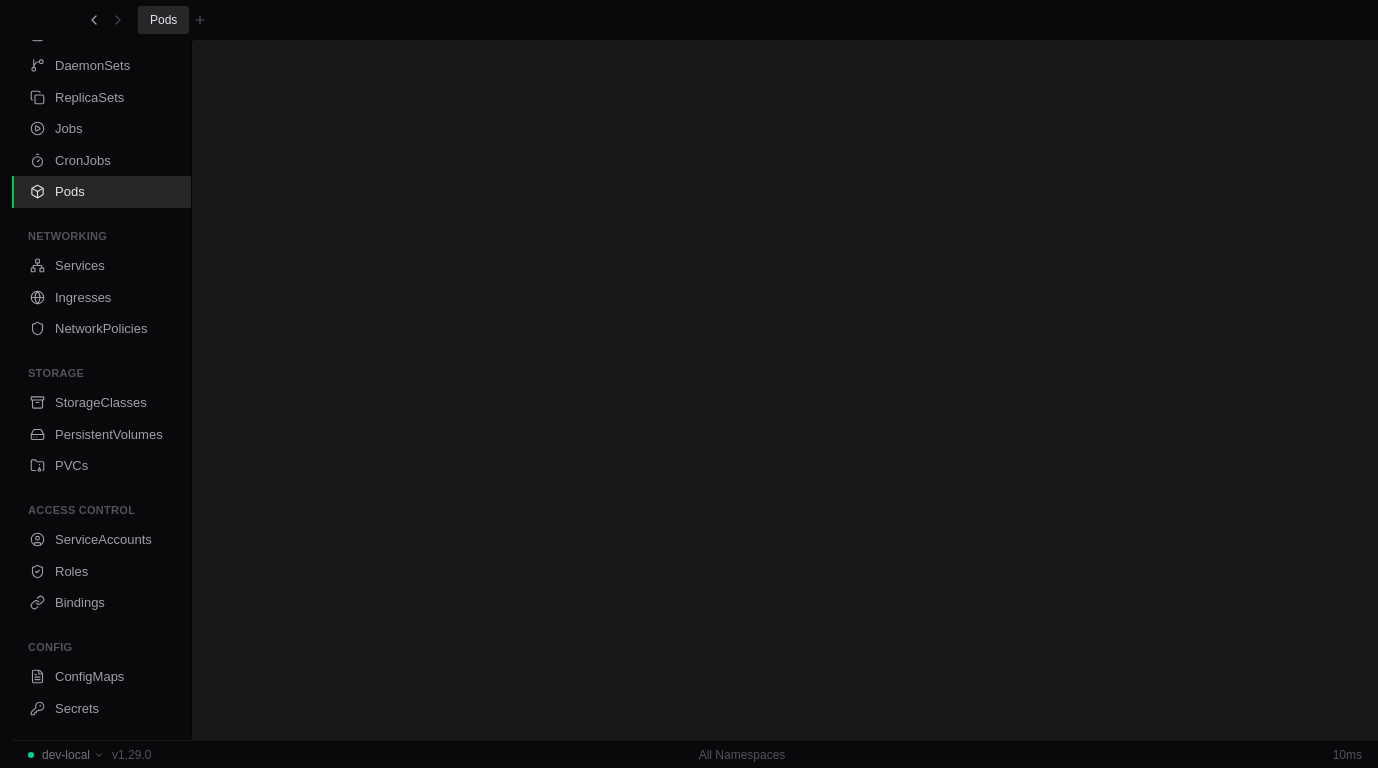
Scenario: RoleBindingDetailView › shows ClusterRoleBinding detail when clicking a cluster role binding
(page scrolled)
Click the button "Bindings".
click(102, 603)  # box left=12, top=587, right=191, bottom=618
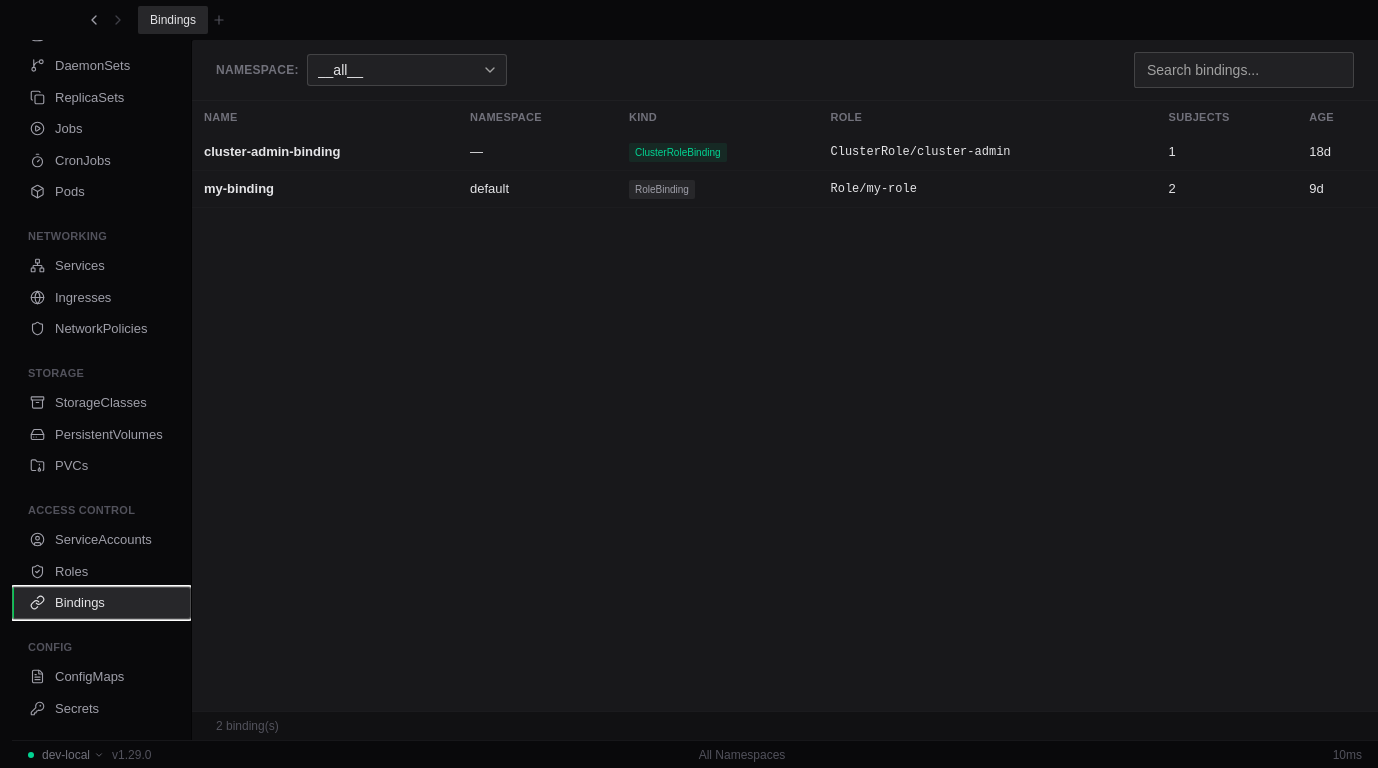
Result: the text "cluster-admin-binding" is shown
Click the text "cluster-admin-binding".
click(325, 152)  # box left=192, top=134, right=458, bottom=170
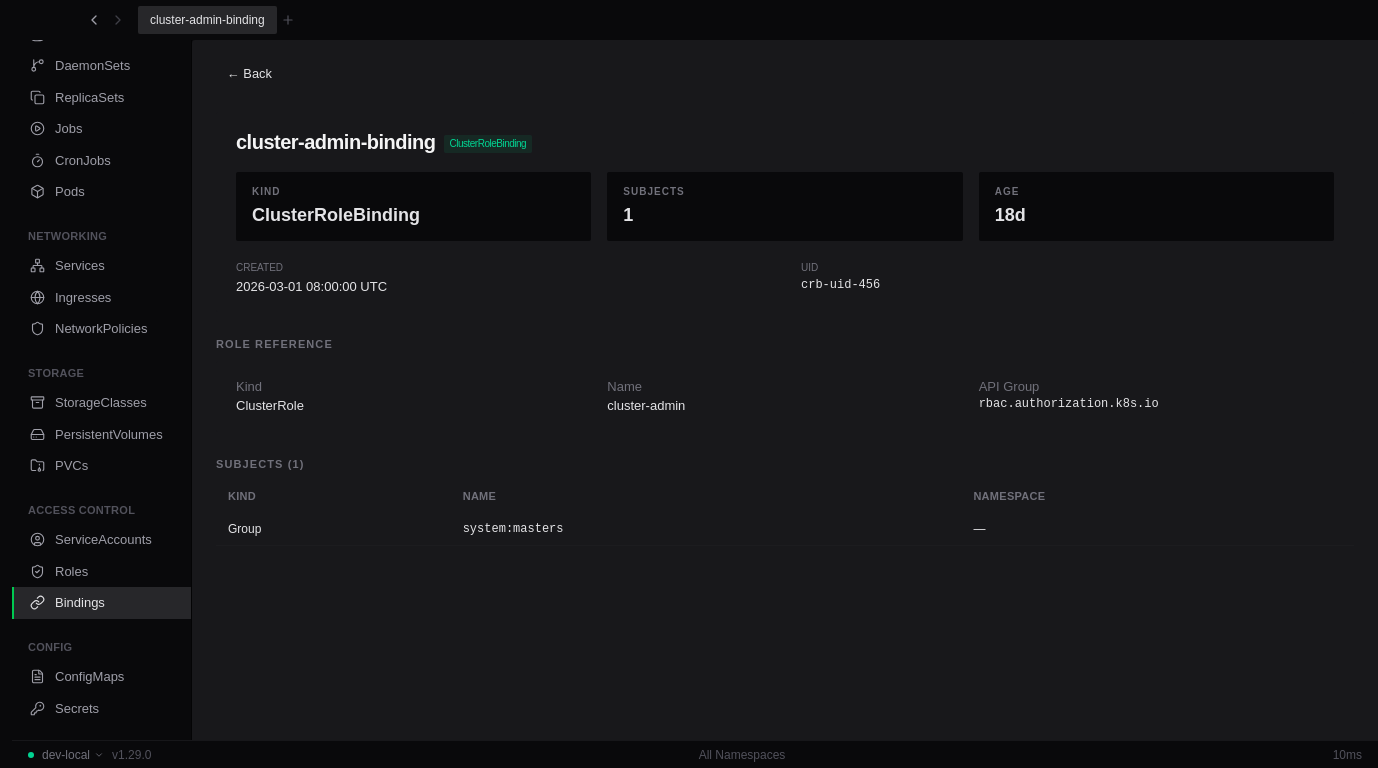
Result: the heading "Subjects (1)" is shown at left=216, top=458, right=304, bottom=470
